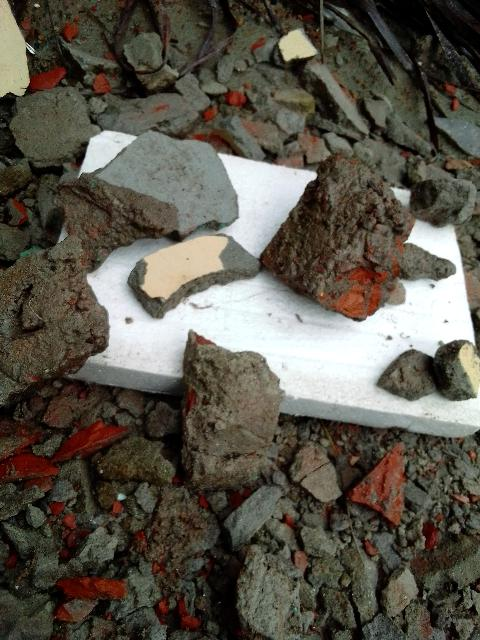cocksheet: (49, 113, 480, 477)
